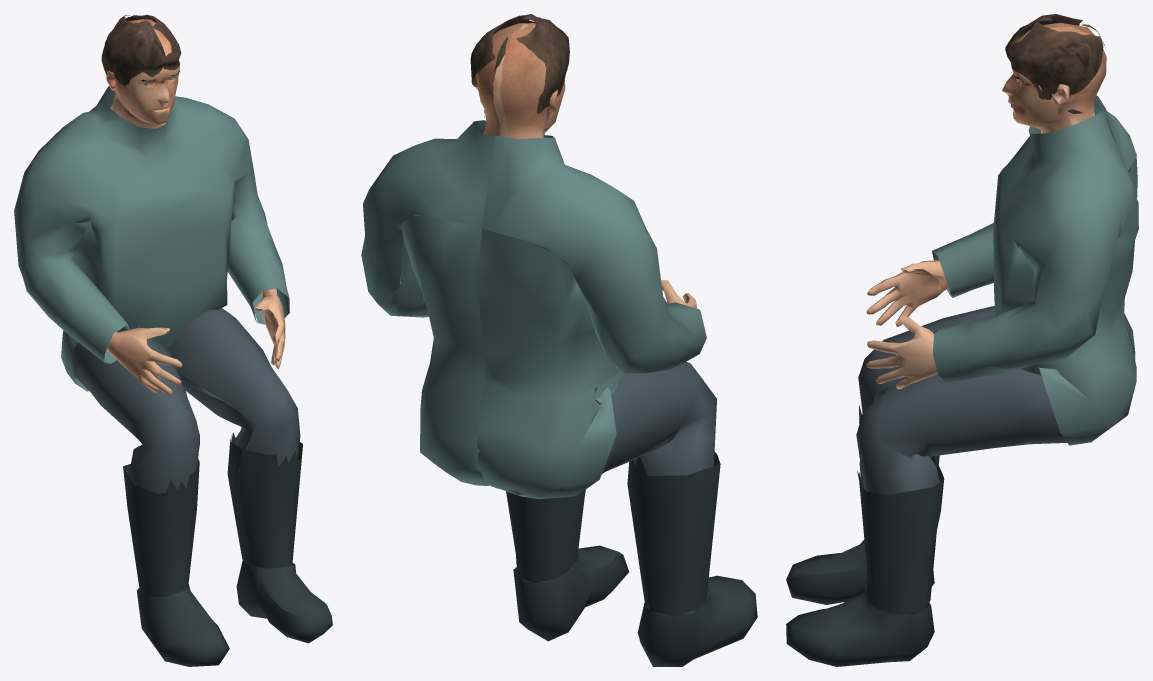
The model's file is male-seated.glb.
The picture shows the model from 3 angles, left to right: view 1: azimuth 30°, elevation 25°; view 2: azimuth 150°, elevation 25°; view 3: azimuth 270°, elevation 25°; orthographic projection. The views are drawn at different scales.
Visible parts, largest first — view 1: LOD_tunic, LOD_boots, LOD_trousers, LOD_skin, LOD_hair; view 2: LOD_tunic, LOD_boots, LOD_trousers, LOD_skin, LOD_hair; view 3: LOD_tunic, LOD_boots, LOD_trousers, LOD_skin, LOD_hair.
Boxes of the visible parts, x1=… form: LOD_tunic: x1=14, y1=86, x2=289, y2=391; LOD_boots: x1=123, y1=432, x2=332, y2=666; LOD_trousers: x1=71, y1=308, x2=300, y2=493; LOD_skin: x1=106, y1=19, x2=285, y2=395; LOD_hair: x1=101, y1=14, x2=181, y2=85; LOD_tunic: x1=361, y1=120, x2=706, y2=499; LOD_boots: x1=506, y1=452, x2=757, y2=666; LOD_trousers: x1=466, y1=361, x2=716, y2=494; LOD_skin: x1=476, y1=23, x2=696, y2=308; LOD_hair: x1=470, y1=14, x2=569, y2=117; LOD_tunic: x1=932, y1=95, x2=1138, y2=445; LOD_boots: x1=786, y1=405, x2=944, y2=666; LOD_trousers: x1=856, y1=305, x2=1131, y2=494; LOD_skin: x1=866, y1=22, x2=1106, y2=389; LOD_hair: x1=1005, y1=14, x2=1104, y2=113.
Size of the model in its own units: 0.6783 by 1.5 by 0.7848.
Materials: 7 (4 with a texture image).
